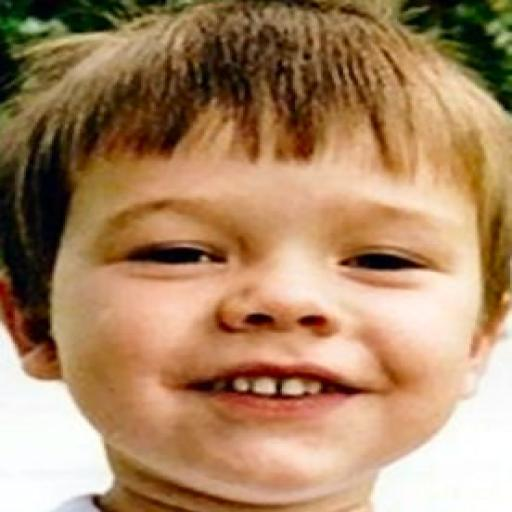Autism: (55, 69, 512, 487)
